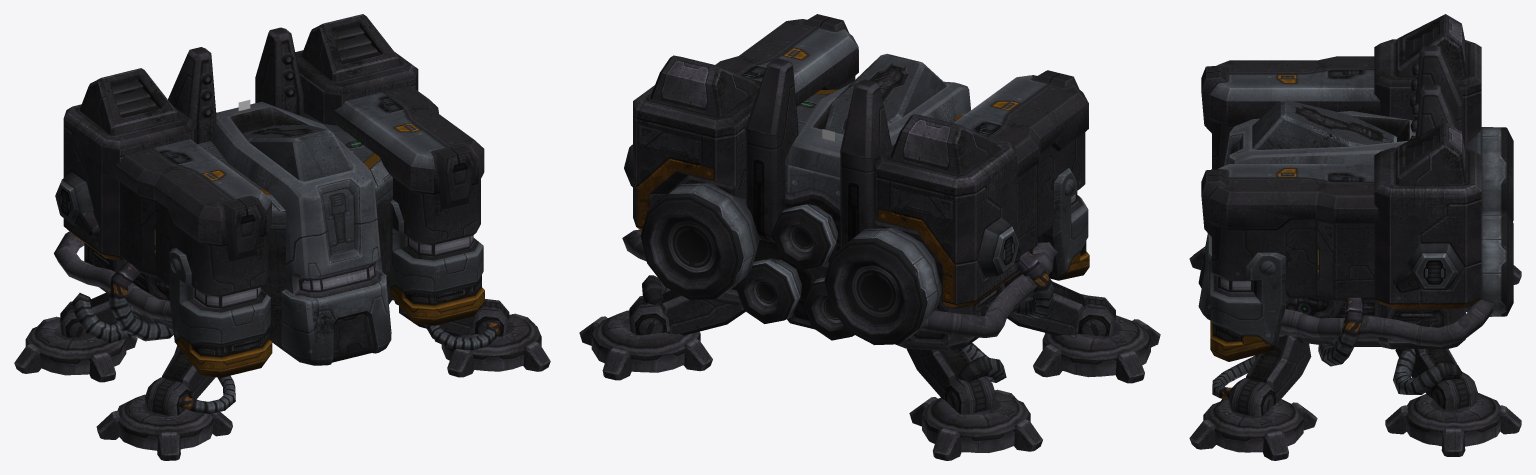
The model's file is barracks.fbx.
3 views of the same model, side by side, from view 1: azimuth 30°, elevation 25°; view 2: azimuth 150°, elevation 25°; view 3: azimuth 270°, elevation 25° (orthographic). The views are drawn at different scales.
Visible parts, largest first — view 1: Geoset_1; view 2: Geoset_1; view 3: Geoset_1.
Boxes of the visible parts, <box> form: Geoset_1: <box>14,14,550,460</box>; Geoset_1: <box>579,14,1160,460</box>; Geoset_1: <box>1189,14,1521,460</box>.
Size of the model in its own units: 4.29 by 2.69 by 2.81.
Materials: 1 (1 with a texture image).
